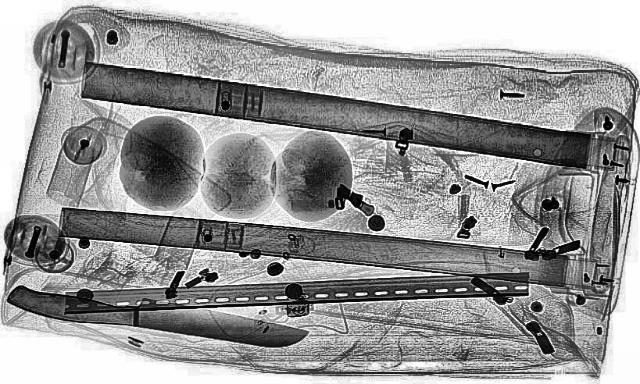Knife: (0, 281, 314, 351)
